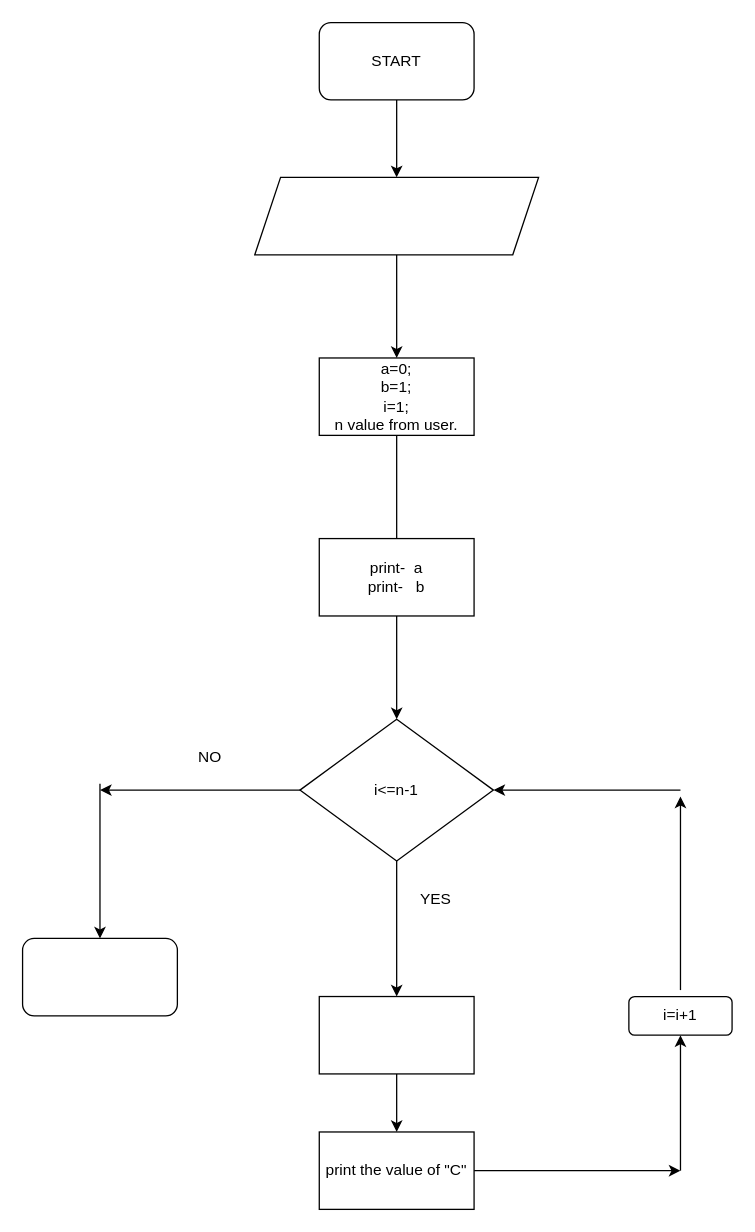
The diagram is 755 pixels wide and 1232 high, and some of its shapes have lost their labels. Here are the shapes that lost their labels. From the top down, the centre of each, then its label:
At pixel 396 215: "let a,b,c,n".
At pixel 99 976: "END".
At pixel 396 1034: "c=a+b a=b b=c".
